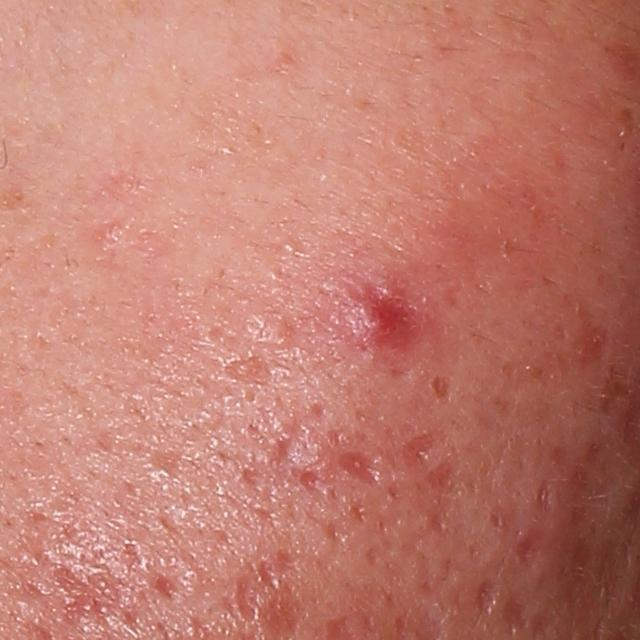atrophic_scar: (270, 403, 330, 497), (46, 566, 126, 623), (395, 425, 445, 476), (336, 448, 390, 493), (215, 353, 279, 390), (512, 523, 548, 568), (148, 442, 191, 477), (152, 566, 189, 606), (474, 572, 501, 618), (532, 480, 555, 516)
papule: (343, 294, 404, 347)
